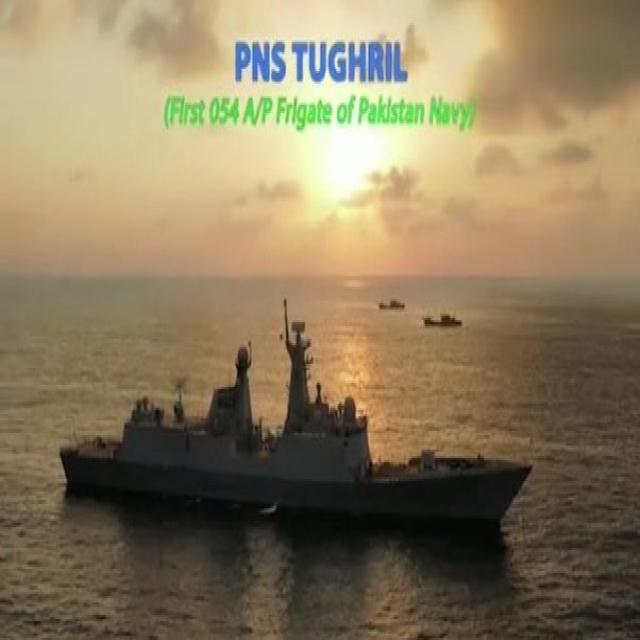Frigate-Tughril-Class-PAK: (59, 291, 530, 533)
